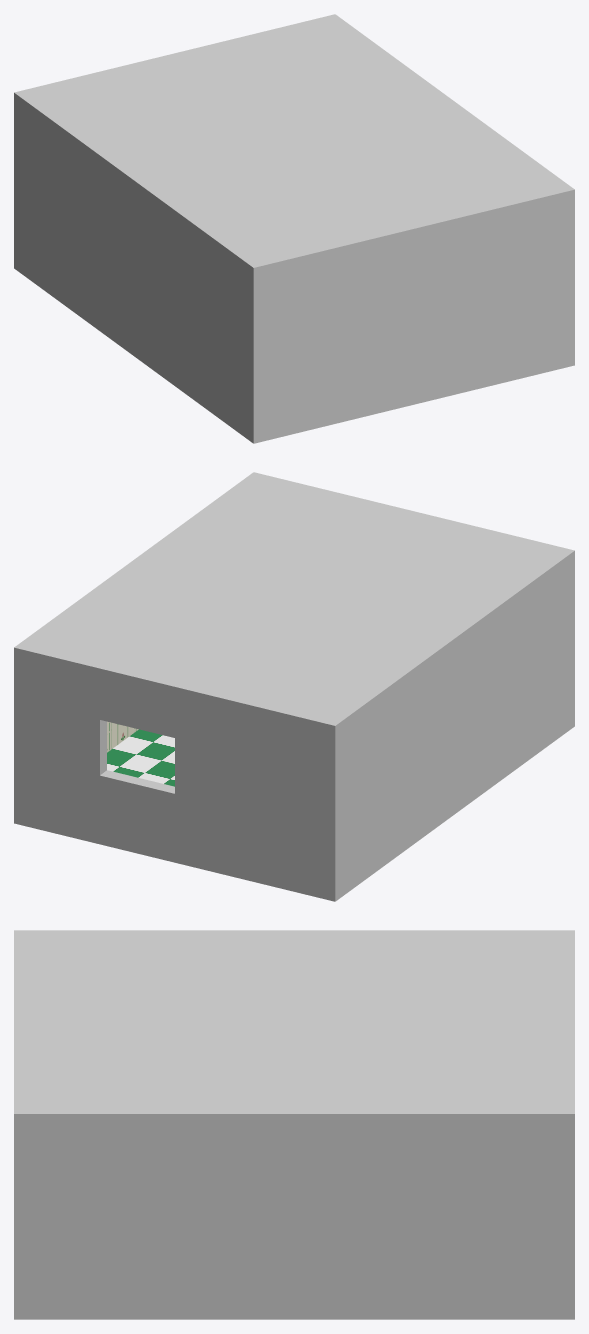
File: room3.glb
3 views of the same model, one above another, from view 1: azimuth 30°, elevation 25°; view 2: azimuth 150°, elevation 25°; view 3: azimuth 270°, elevation 25° (orthographic). The views are drawn at different scales.
Parts seen in each view (by area): view 1: room; view 2: room, floor; view 3: room.
Boxes of the visible parts, box(x1,y1,x2,y2) form: room: box(14, 14, 574, 443); room: box(14, 472, 574, 901); floor: box(107, 729, 174, 786); room: box(14, 930, 574, 1319).
Bounding box in the file's own units: 6.03 × 3.16 × 7.8.
Materials: 7 (2 with a texture image).
